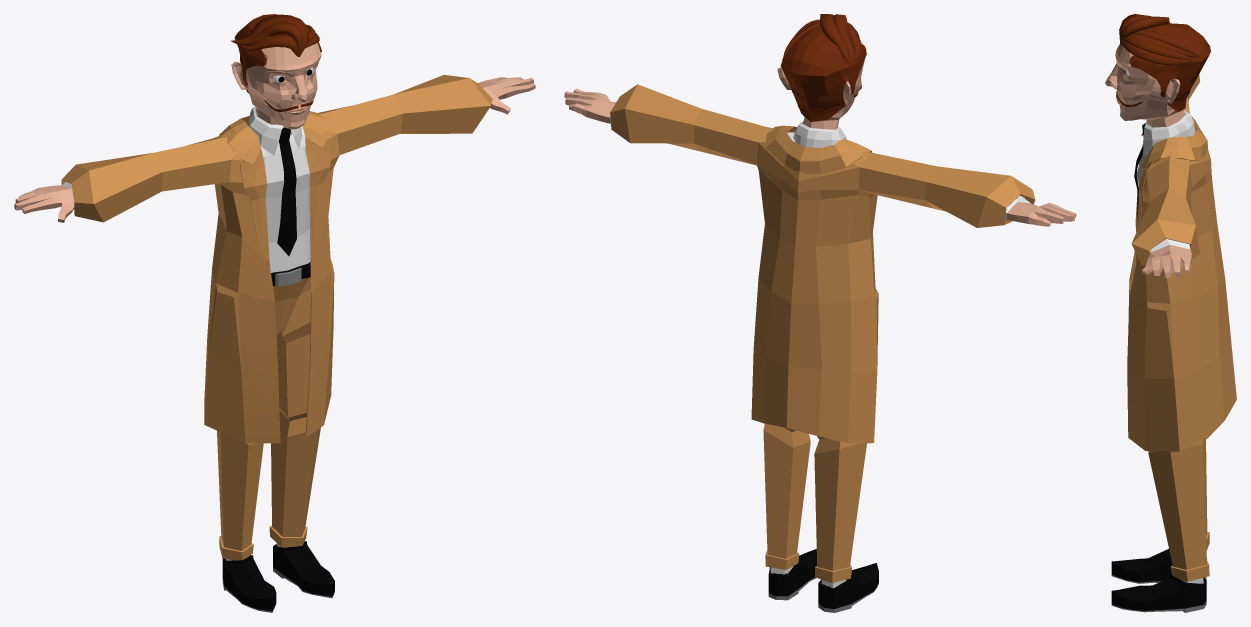
The model's file is rigged character low poly.fbx.
3 renders of one model, left to right at view 1: azimuth 30°, elevation 25°; view 2: azimuth 150°, elevation 25°; view 3: azimuth 270°, elevation 25°, orthographic.
Visible parts, largest first — view 1: Cube.007, Cube.005, Cube.003, Cube, Cube.006, Cube.004, NurbsPath, Cube.002; view 2: Cube.007, Cube.005, Cube.002, Cube.003, Cube.006, NurbsPath, Cube; view 3: Cube.007, Cube.005, Cube.006, Cube, Cube.002, Cube.003, NurbsPath.003, NurbsPath.002, NurbsPath, Cube.004.
Boxes of the visible parts, x1=… form: Cube.007: x1=61, y1=75, x2=492, y2=443; Cube.005: x1=217, y1=262, x2=320, y2=560; Cube.003: x1=14, y1=77, x2=535, y2=560; Cube: x1=231, y1=43, x2=321, y2=129; Cube.006: x1=222, y1=541, x2=334, y2=612; Cube.004: x1=277, y1=127, x2=296, y2=256; NurbsPath: x1=231, y1=14, x2=309, y2=56; Cube.002: x1=234, y1=14, x2=321, y2=93; Cube.007: x1=610, y1=84, x2=1035, y2=443; Cube.005: x1=763, y1=423, x2=866, y2=582; Cube.002: x1=780, y1=25, x2=866, y2=121; Cube.003: x1=564, y1=88, x2=1076, y2=588; Cube.006: x1=768, y1=549, x2=878, y2=612; NurbsPath: x1=819, y1=14, x2=854, y2=64; Cube: x1=777, y1=40, x2=864, y2=129; Cube.007: x1=1127, y1=74, x2=1236, y2=451; Cube.005: x1=1135, y1=264, x2=1209, y2=581; Cube.006: x1=1111, y1=549, x2=1206, y2=612; Cube: x1=1105, y1=44, x2=1185, y2=127; Cube.002: x1=1129, y1=23, x2=1210, y2=111; Cube.003: x1=1136, y1=21, x2=1203, y2=583; NurbsPath.003: x1=1121, y1=37, x2=1193, y2=65; NurbsPath.002: x1=1127, y1=30, x2=1199, y2=57; NurbsPath: x1=1119, y1=14, x2=1169, y2=46; Cube.004: x1=1134, y1=123, x2=1145, y2=219.
Size of the model in its own units: 993 by 1054 by 219.
